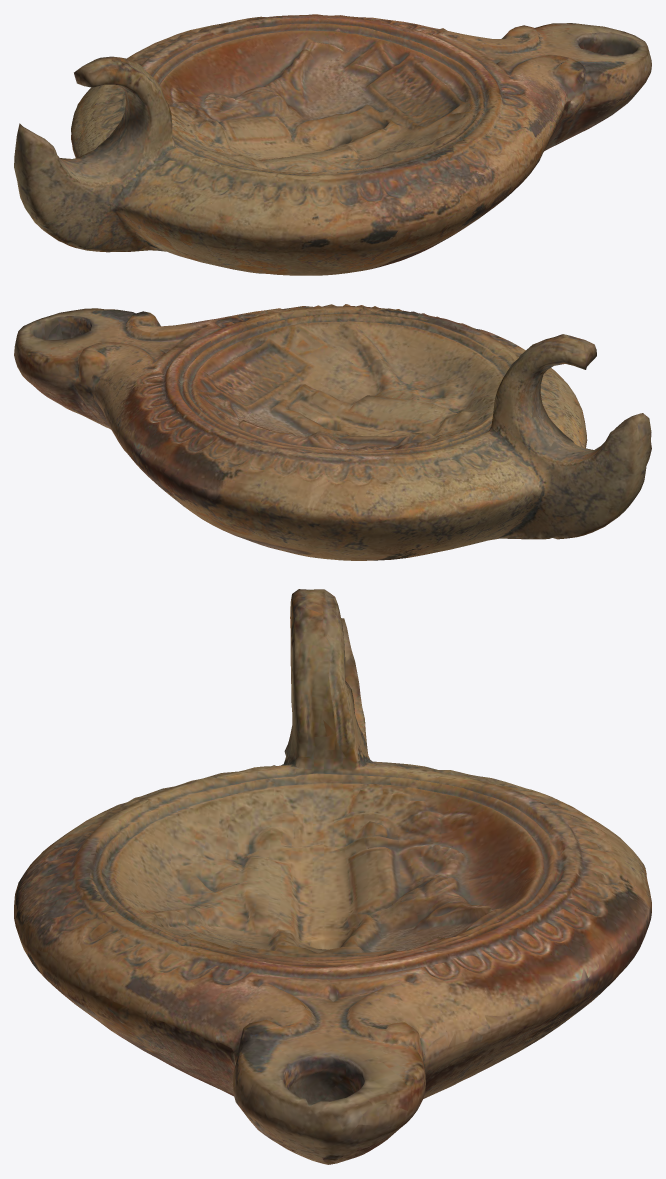
Rendered from roman_lamp.obj.
3 views of the same model, one above another, from view 1: azimuth 30°, elevation 25°; view 2: azimuth 150°, elevation 25°; view 3: azimuth 270°, elevation 25° (orthographic). The views are drawn at different scales.
Visible parts, largest first — view 1: roman_lamp; view 2: roman_lamp; view 3: roman_lamp.
Part boxes in pixels (bbox=[...]): roman_lamp: bbox=[14, 14, 651, 275]; roman_lamp: bbox=[14, 304, 651, 560]; roman_lamp: bbox=[14, 589, 651, 1164].
Bounding box in the file's own units: 157 × 52.9 × 102.
1 material, 1 textured.
